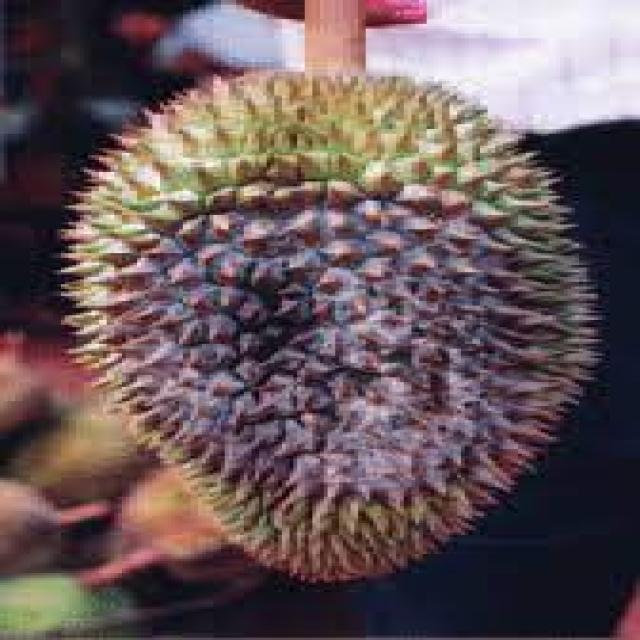defective: (47, 58, 611, 574)
